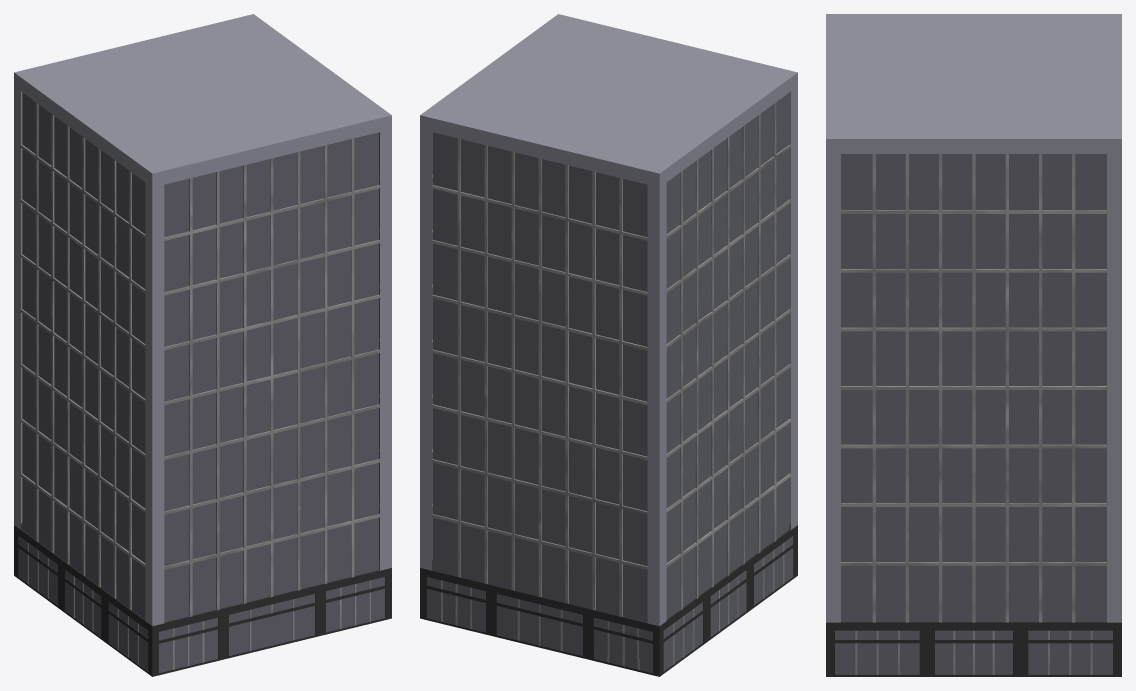
Rendered from Building3.fbx.
3 renders of one model, left to right at view 1: azimuth 30°, elevation 25°; view 2: azimuth 150°, elevation 25°; view 3: azimuth 270°, elevation 25°, orthographic. The views are drawn at different scales.
Parts seen in each view (by area): view 1: wall, rod74, entrance3, glass434, glass452, glass479, glass480, glass477, glass484, glass485, glass490, glass438 (+122 smaller); view 2: wall, rod74, entrance3, glass238, glass239, glass246, glass253, glass241, glass242, glass248, glass251, glass249 (+123 smaller); view 3: wall, rod74, entrance3, glass302, glass309, glass310, glass317, glass350, glass357, glass358, glass365, glass305 (+67 smaller).
Part boxes in pixels (x1,y1,x2,y2): wall: (14,14,391,626); rod74: (21,102,379,616); entrance3: (14,523,391,676); glass434: (164,564,188,622); glass452: (164,178,188,237); glass479: (354,132,378,190); glass480: (354,517,378,575); glass477: (164,399,188,456); glass484: (354,408,378,464); glass485: (164,235,188,291); glass490: (354,243,378,300); glass438: (354,298,378,355); wall: (420,14,797,626); rod74: (432,102,790,616); entrance3: (420,523,797,676); glass238: (623,178,647,237); glass239: (623,564,647,622); glass246: (433,132,457,190); glass253: (433,517,457,575); glass241: (623,399,647,456); glass242: (623,235,647,291); glass248: (433,243,457,300); glass251: (433,408,457,464); glass249: (433,298,457,355); wall: (826,14,1121,622); rod74: (841,154,1106,622); entrance3: (826,622,1121,676); glass302: (1075,154,1106,210); glass309: (841,154,872,210); glass310: (841,565,872,621); glass317: (1075,565,1106,621); glass350: (841,448,872,503); glass357: (1075,448,1106,503); glass358: (1075,272,1106,327); glass365: (841,272,872,327); glass305: (975,154,1005,210).
Size of the model in its own units: 1750 by 3513 by 1750.
4 materials, 4 textured.
